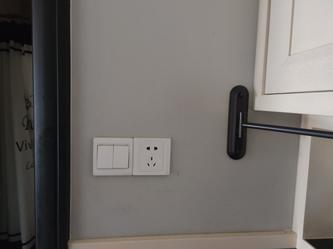switch: (96, 144, 112, 167), (113, 145, 128, 168)
